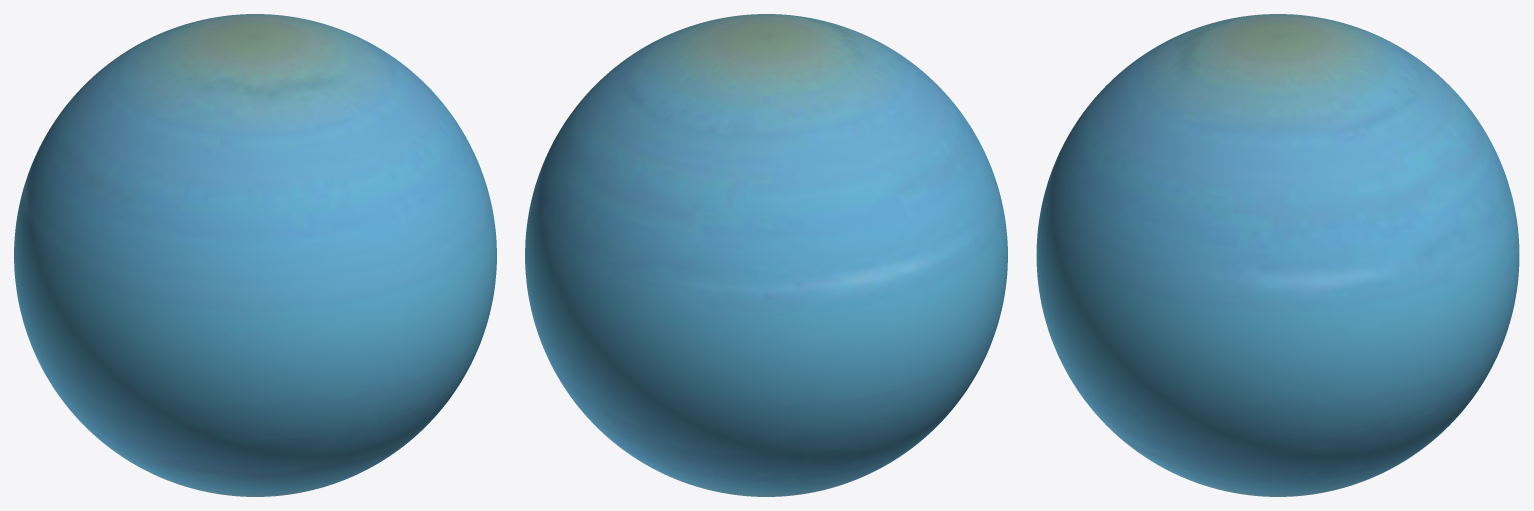
The model's file is Uranus.obj.
3 views of the same model, side by side, from view 1: azimuth 30°, elevation 25°; view 2: azimuth 150°, elevation 25°; view 3: azimuth 270°, elevation 25° (orthographic).
Visible parts, largest first — view 1: Moon_Sphere.001; view 2: Moon_Sphere.001; view 3: Moon_Sphere.001.
Boxes of the visible parts, x1=… form: Moon_Sphere.001: x1=14, y1=14, x2=496, y2=496; Moon_Sphere.001: x1=525, y1=14, x2=1007, y2=496; Moon_Sphere.001: x1=1036, y1=14, x2=1519, y2=496.
Size of the model in its own units: 2 by 2 by 2.
Materials: 1 (1 with a texture image).
